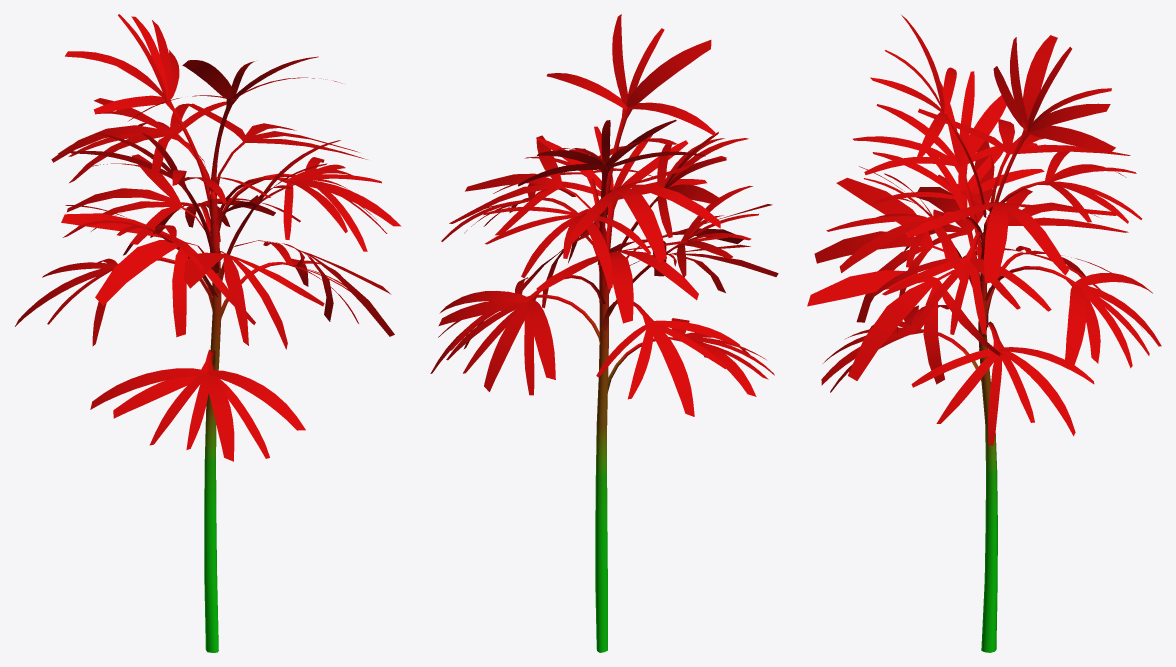
The model's file is SM_BroadleafLadyPalm_02.FBX.
3 views of the same model, side by side, from view 1: azimuth 30°, elevation 25°; view 2: azimuth 150°, elevation 25°; view 3: azimuth 270°, elevation 25° (orthographic). The views are drawn at different scales.
Visible parts, largest first — view 1: SM_BroadleafLadyPalm_02; view 2: SM_BroadleafLadyPalm_02; view 3: SM_BroadleafLadyPalm_02.
Part boxes in pixels (<box>): SM_BroadleafLadyPalm_02: <box>15,14,401,652</box>; SM_BroadleafLadyPalm_02: <box>430,14,778,652</box>; SM_BroadleafLadyPalm_02: <box>807,15,1161,652</box>.
Bounding box in the file's own units: 45.94 × 48.26 × 90.68.
